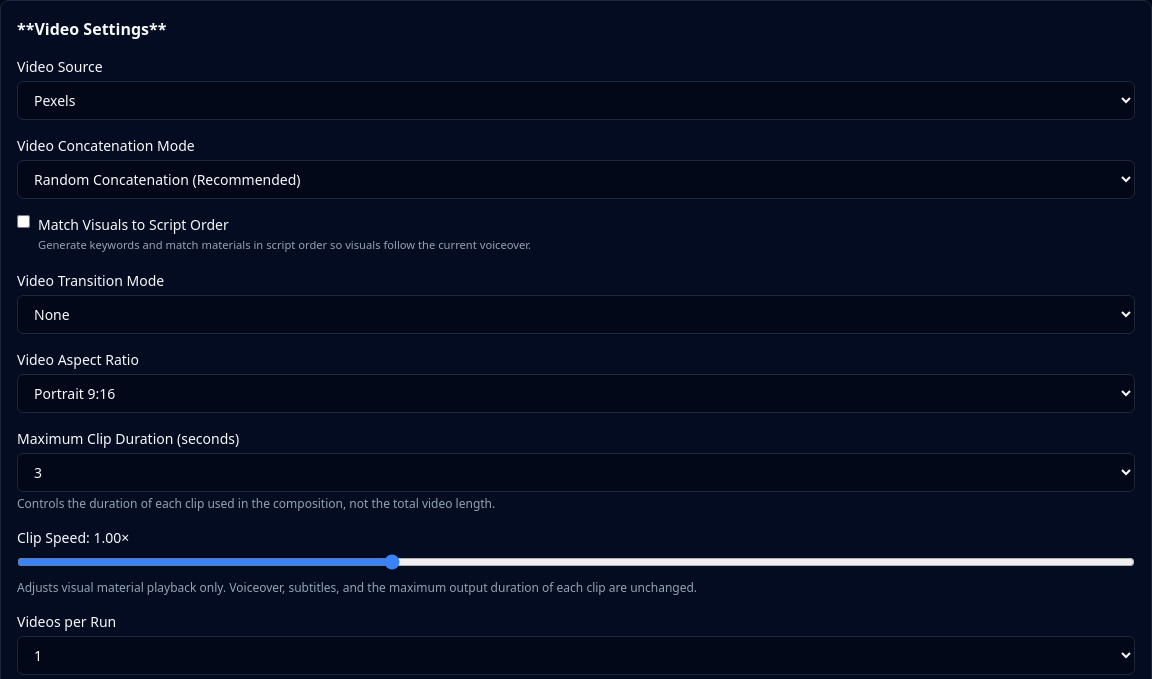
Test: VideoPanel › only offers local uploads for the local source
This screenshot has width=1152, height=679.
Select "Local file" in the dropdown labelled "Video Source" at point(576, 100), box [17,81,1135,120]
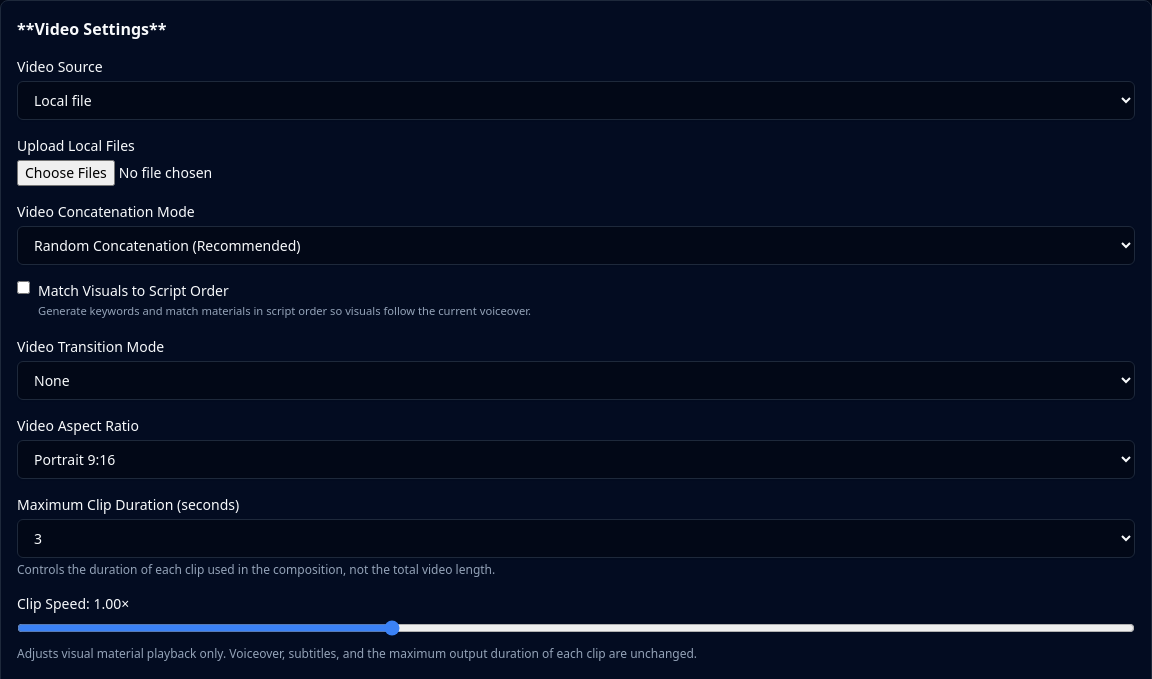
Expected: the file field labelled "Upload Local Files" is shown, [17,160,1135,186]
